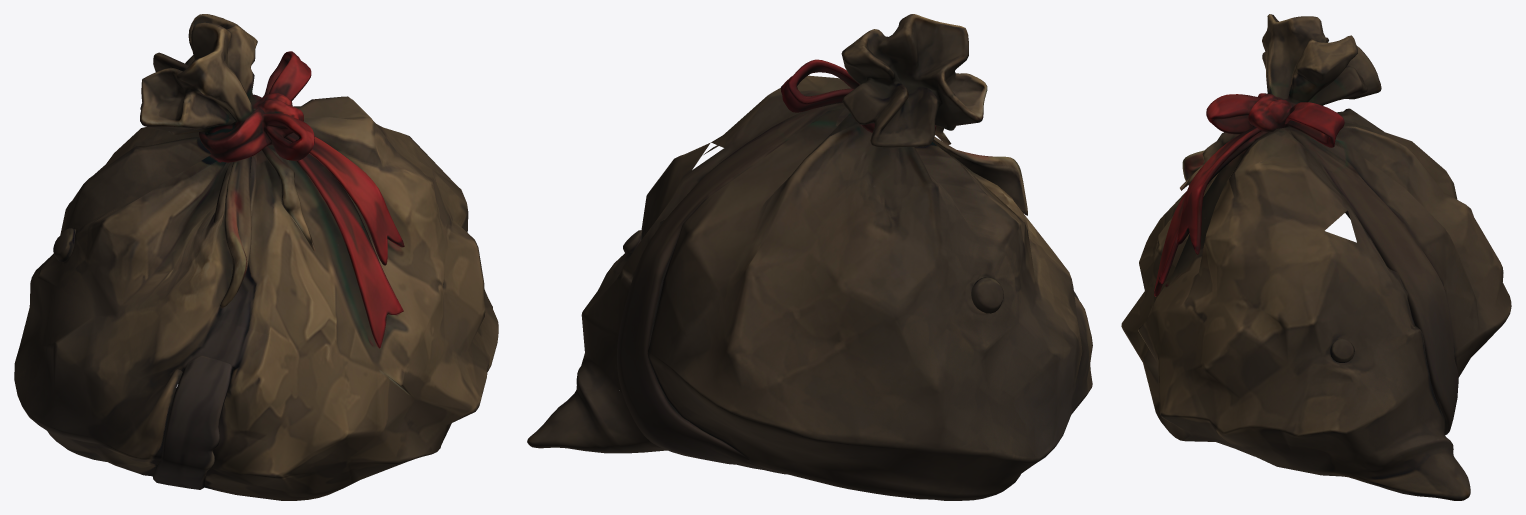
Rendered from F01_body_snatcher_sack.glb.
3 views of the same model, side by side, from view 1: azimuth 30°, elevation 25°; view 2: azimuth 150°, elevation 25°; view 3: azimuth 270°, elevation 25° (orthographic). The views are drawn at different scales.
Visible parts, largest first — view 1: tripo_07a7fd0c_9d47_4e36_a6a2_b127777598eb; view 2: tripo_07a7fd0c_9d47_4e36_a6a2_b127777598eb; view 3: tripo_07a7fd0c_9d47_4e36_a6a2_b127777598eb.
Boxes of the visible parts, left/top/right/bottom form: tripo_07a7fd0c_9d47_4e36_a6a2_b127777598eb: left=14, top=14, right=498, bottom=500; tripo_07a7fd0c_9d47_4e36_a6a2_b127777598eb: left=527, top=14, right=1092, bottom=500; tripo_07a7fd0c_9d47_4e36_a6a2_b127777598eb: left=1121, top=14, right=1511, bottom=500.
Size of the model in its own units: 0.9995 by 0.9263 by 0.8765.
1 material, 1 textured.
